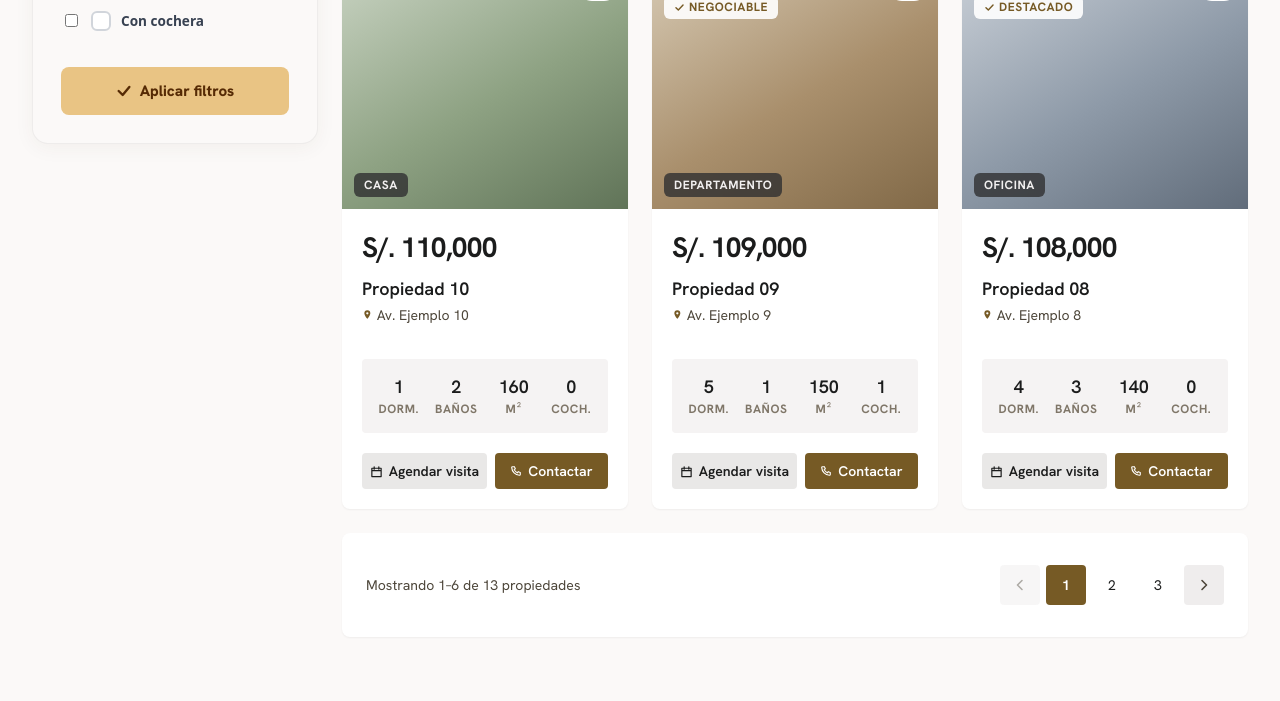
PropertyList (integración del catálogo) › Paginación › cambia de página y deshabilita "siguiente" en la última
(page scrolled)
Expected: the text "Mostrando 1–6 de 13 propiedades" is shown, [366,575,580,595]
Click the button named "Ir a la página siguiente" at [1204, 585], box [1184,565,1224,605]
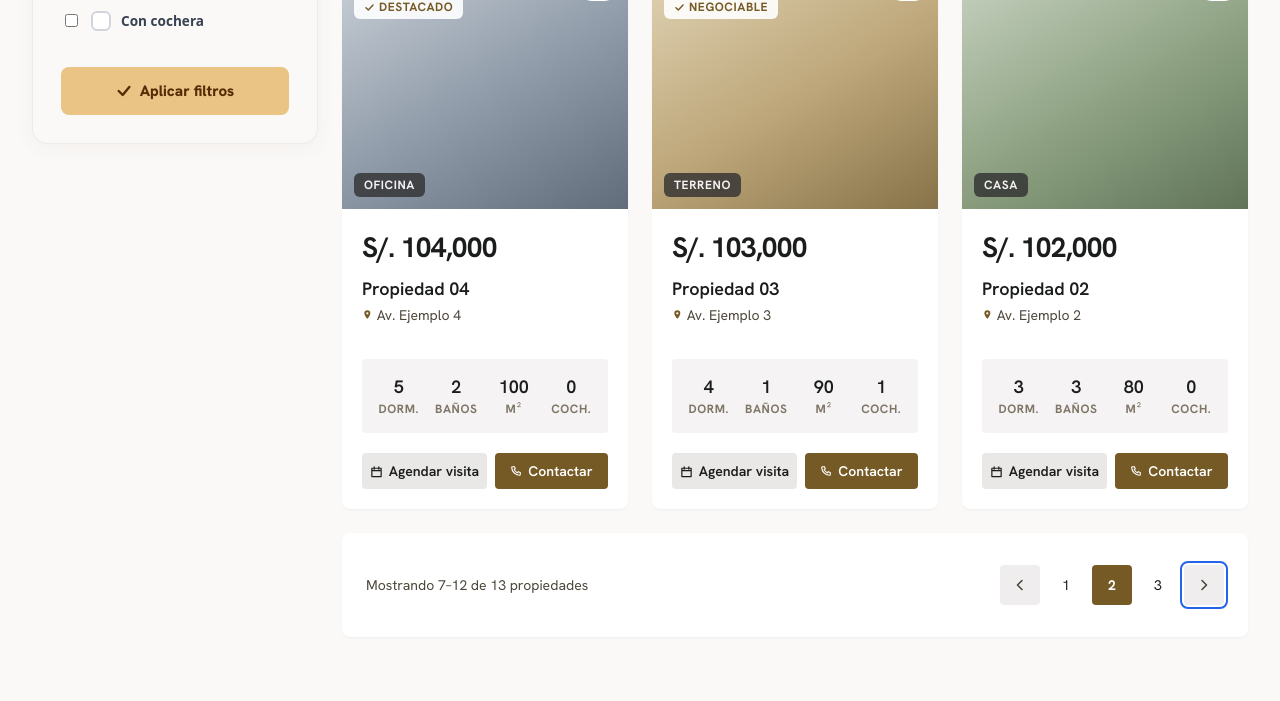
Expected: the heading "Propiedad 01" is not shown
Expected: the text "Mostrando 7–12 de 13 propiedades" is shown, [366,575,588,595]
Click the button named "Ir a la página siguiente" at [1204, 585], box [1184,565,1224,605]
(page scrolled)
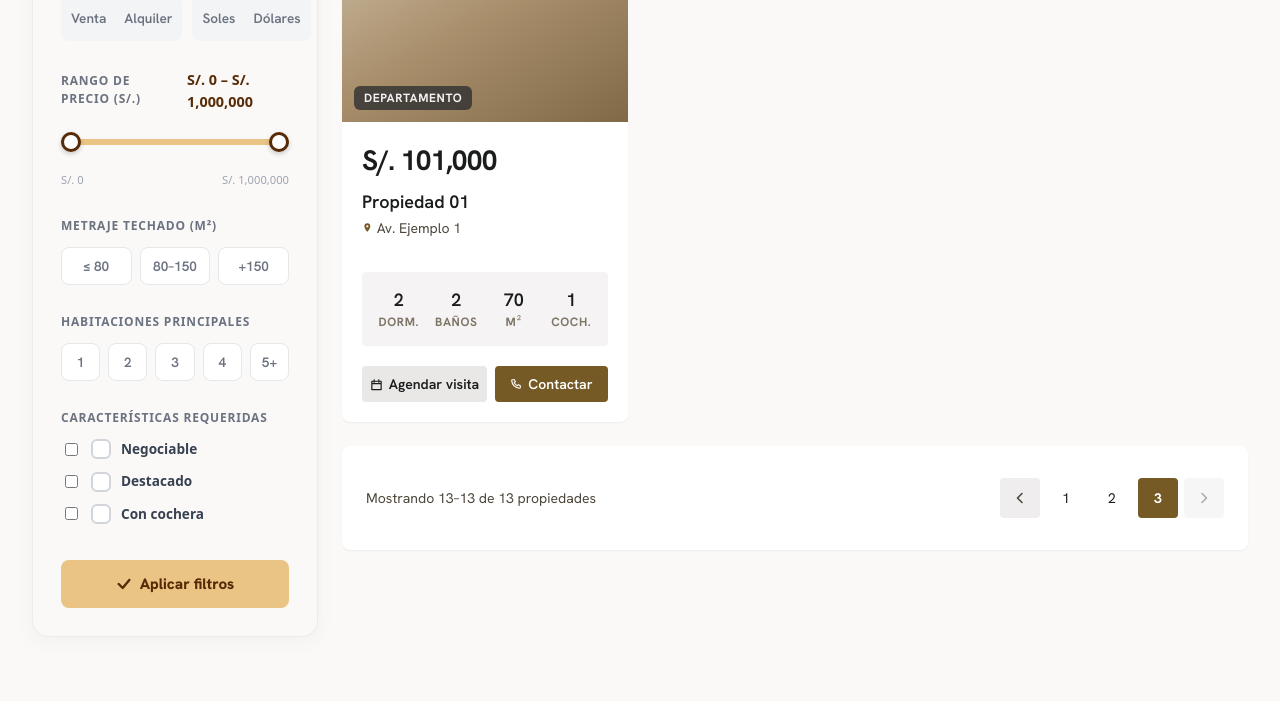
Expected: the text "Mostrando 13–13 de 13 propiedades" is shown, [366,488,596,508]
Expected: the button named "Ir a la página siguiente" is disabled, [1184,478,1224,518]
